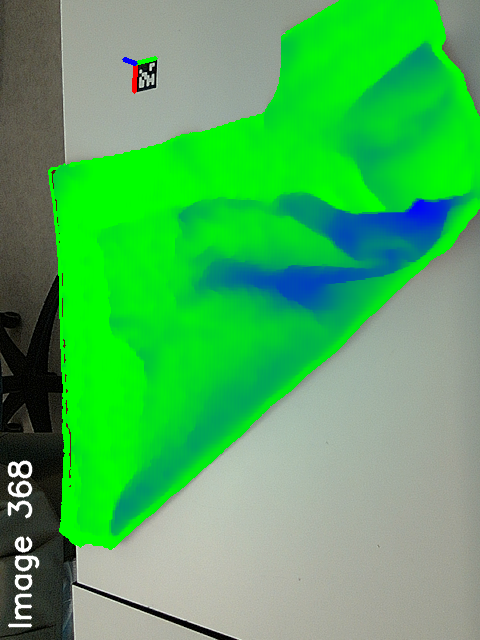V: (88, 296, 150, 349), (90, 220, 138, 259)
